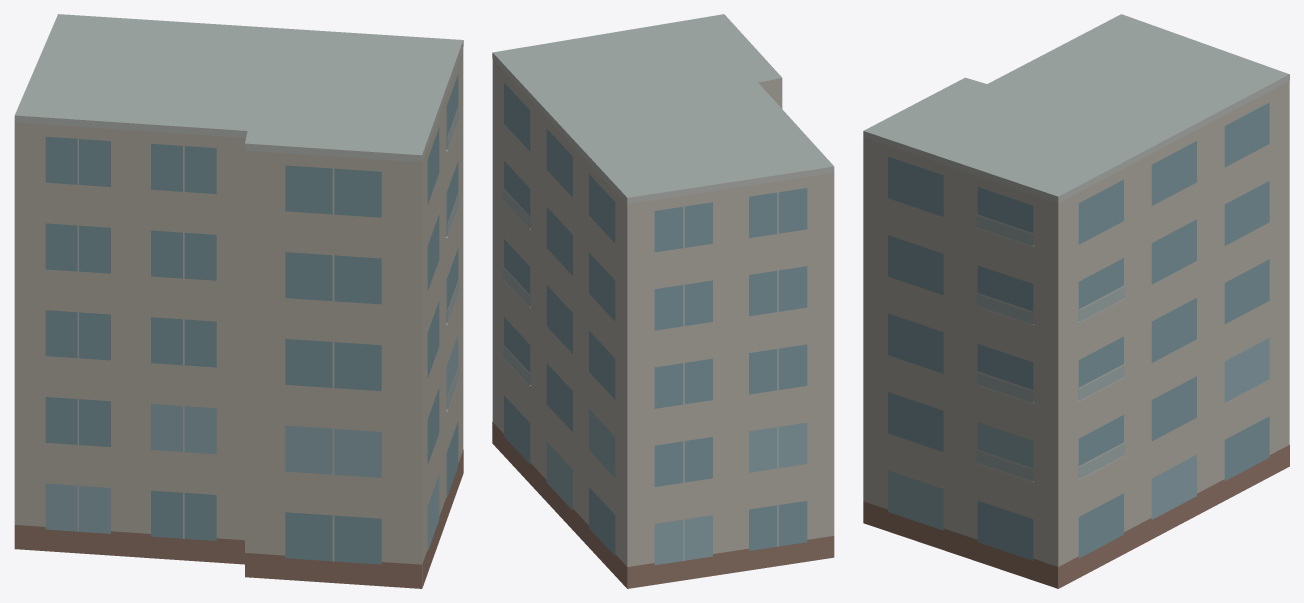
Rendered from survey-upis-33023747.glb.
The picture shows the model from 3 angles, left to right: view 1: azimuth 30°, elevation 25°; view 2: azimuth 150°, elevation 25°; view 3: azimuth 270°, elevation 25°; orthographic projection. The views are drawn at different scales.
Parts seen in each view (by area): view 1: survey-upis-33023747.tmp; view 2: survey-upis-33023747.tmp; view 3: survey-upis-33023747.tmp.
Boxes of the visible parts, left/top/right/bottom form: survey-upis-33023747.tmp: left=14, top=14, right=463, bottom=588; survey-upis-33023747.tmp: left=492, top=14, right=834, bottom=588; survey-upis-33023747.tmp: left=863, top=14, right=1289, bottom=588.
Size of the model in its own units: 15.04 by 15.05 by 14.84.
